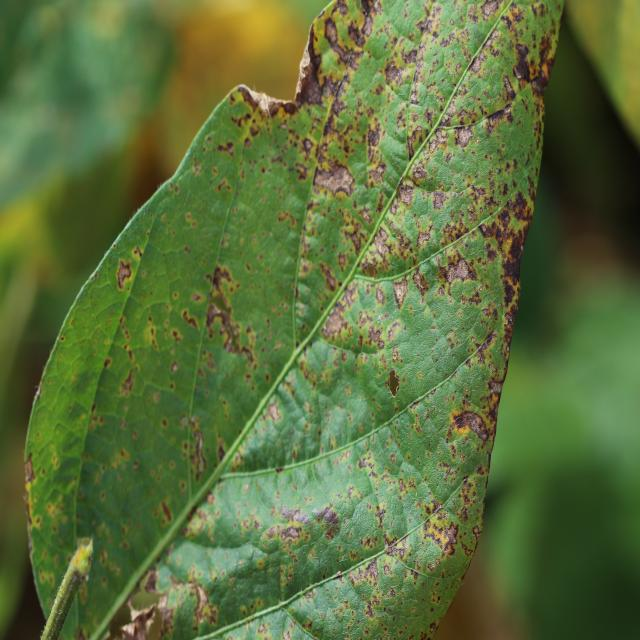Bacterial_Blight: (197, 186, 292, 378), (107, 280, 191, 425), (451, 316, 508, 424), (428, 56, 492, 145), (305, 135, 373, 206), (484, 202, 531, 288), (155, 570, 216, 635), (519, 11, 561, 97), (260, 503, 320, 558), (419, 510, 458, 560), (321, 13, 355, 62), (183, 505, 216, 543), (348, 558, 379, 592), (407, 121, 428, 160), (509, 189, 532, 223), (383, 536, 410, 564), (445, 256, 471, 285), (206, 301, 228, 334), (367, 120, 384, 153), (385, 62, 405, 89), (366, 324, 385, 350), (181, 308, 199, 333), (320, 76, 338, 100), (120, 368, 136, 394), (45, 499, 63, 522), (24, 454, 36, 485), (480, 0, 500, 18), (470, 54, 487, 74), (216, 140, 235, 157), (373, 505, 387, 528), (160, 500, 173, 524), (431, 190, 446, 210), (433, 128, 448, 148), (497, 210, 511, 231), (301, 137, 314, 157), (185, 212, 197, 228), (100, 547, 108, 566), (133, 245, 143, 259), (243, 136, 253, 149), (103, 357, 112, 369)
Soybean: (25, 0, 561, 640)
